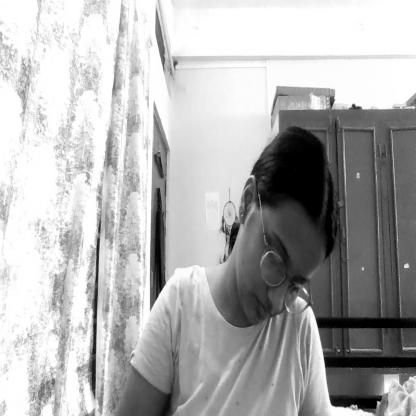Distracted: (228, 124, 323, 338)
